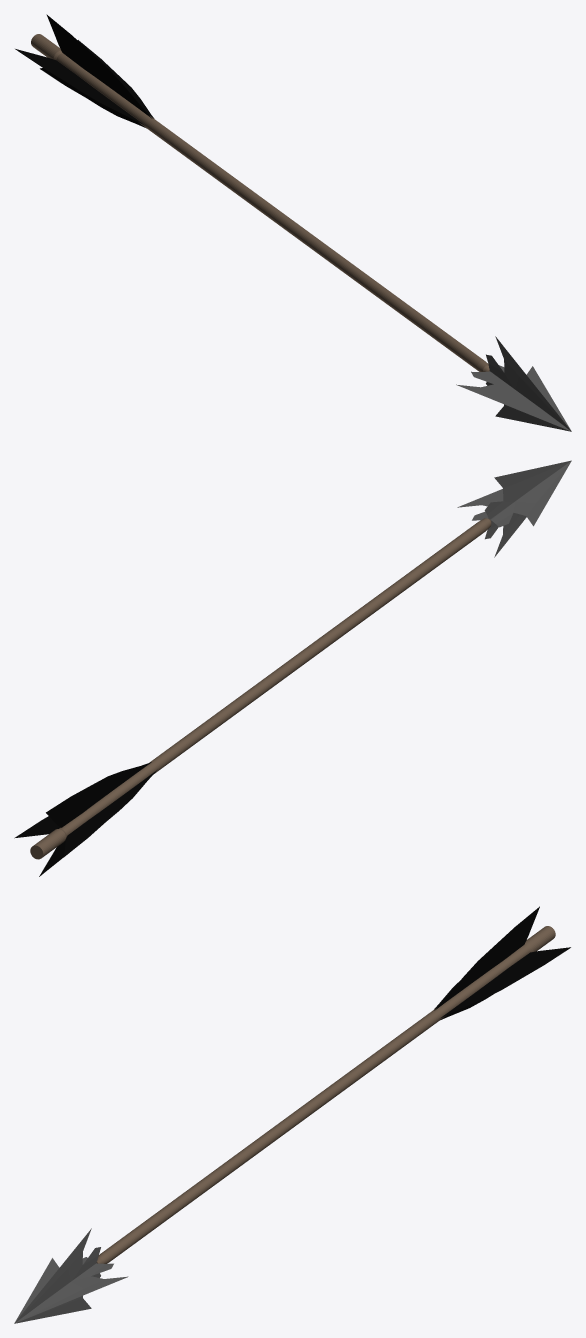
Rendered from arrow 1.fbx.
3 renders of one model, top to bottom at view 1: azimuth 30°, elevation 25°; view 2: azimuth 150°, elevation 25°; view 3: azimuth 330°, elevation 25°, orthographic.
Parts seen in each view (by area): view 1: Cylinder.035, Plane.004, Plane.005, Plane.007, Plane.006; view 2: Cylinder.035, Plane.005, Plane.004, Plane.007, Plane.006; view 3: Cylinder.035, Plane.005, Plane.007, Plane.004, Plane.006.
Part boxes in pixels (box(x1,y1,x2,y2)): Cylinder.035: box(31, 34, 489, 371); Plane.004: box(40, 14, 152, 128); Plane.005: box(486, 336, 571, 431); Plane.007: box(456, 365, 571, 431); Plane.006: box(15, 40, 154, 125); Cylinder.035: box(30, 518, 491, 859); Plane.005: box(484, 460, 571, 557); Plane.004: box(39, 762, 151, 876); Plane.007: box(457, 461, 571, 527); Plane.006: box(14, 770, 156, 856); Cylinder.035: box(96, 926, 555, 1263); Plane.005: box(14, 1228, 100, 1323); Plane.007: box(14, 1257, 128, 1323); Plane.004: box(434, 906, 539, 1019); Plane.006: box(434, 947, 570, 1017).
Bounding box in the file's own units: 39.13 × 39.13 × 470.
